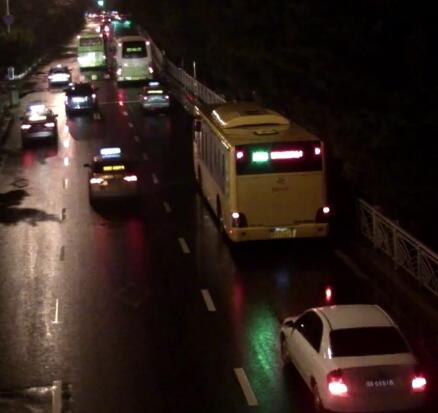bus: (187, 98, 330, 243), (106, 29, 150, 83), (73, 30, 107, 68)
car: (276, 301, 425, 408), (84, 145, 140, 204), (16, 106, 56, 142), (64, 81, 95, 109), (138, 82, 168, 108), (46, 65, 69, 87)
